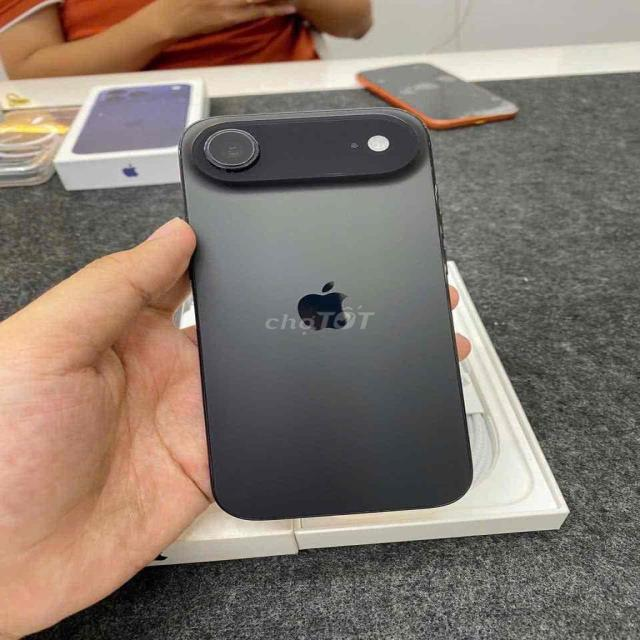scratch: (200, 123, 262, 171)
